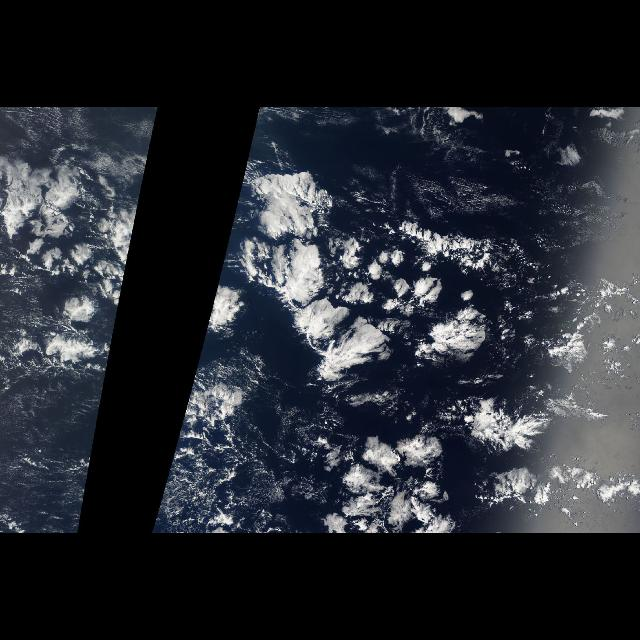Flower: (196, 145, 640, 533), (0, 144, 150, 363)
Gravel: (148, 370, 294, 532)
Sugar: (1, 376, 107, 530)
